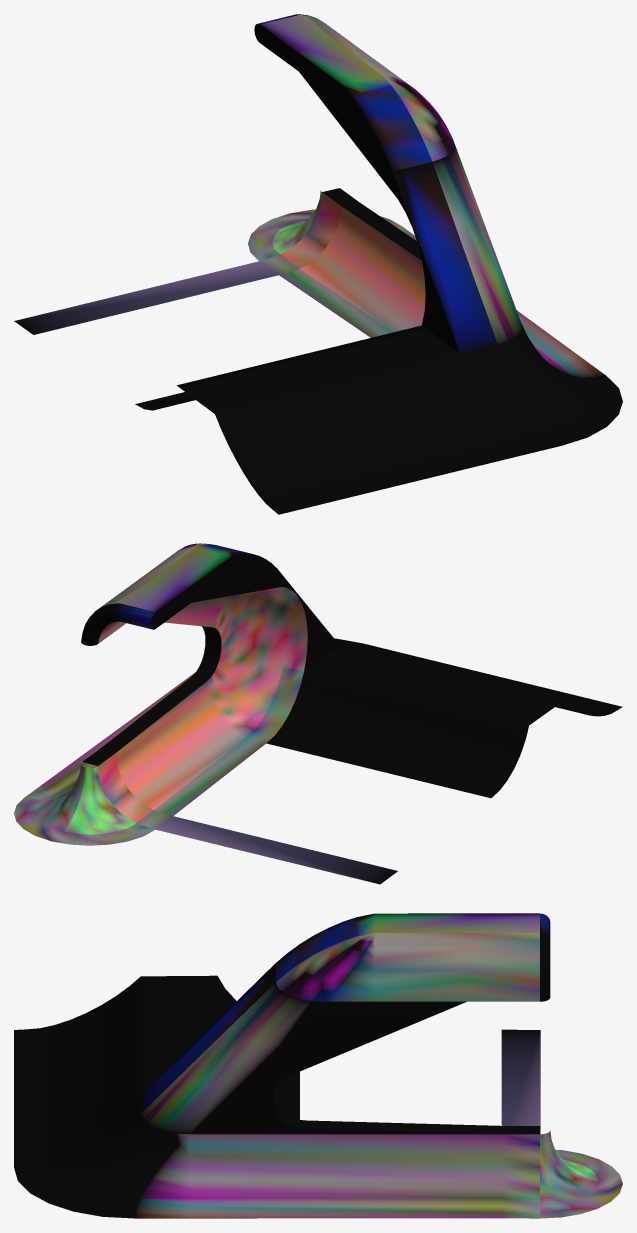
File: LongField_Goal_Main.gltf
The picture shows the model from 3 angles, top to bottom: view 1: azimuth 30°, elevation 25°; view 2: azimuth 150°, elevation 25°; view 3: azimuth 270°, elevation 25°; orthographic projection. The views are drawn at different scales.
Parts seen in each view (by area): view 1: LongField_Goal_Main; view 2: LongField_Goal_Main; view 3: LongField_Goal_Main.
Part boxes in pixels (x1=…): LongField_Goal_Main: x1=14, y1=14, x2=622, y2=514; LongField_Goal_Main: x1=14, y1=543, x2=622, y2=884; LongField_Goal_Main: x1=14, y1=913, x2=622, y2=1218.
Bounding box in the file's own units: 11.9 × 6.94 × 16.25.
